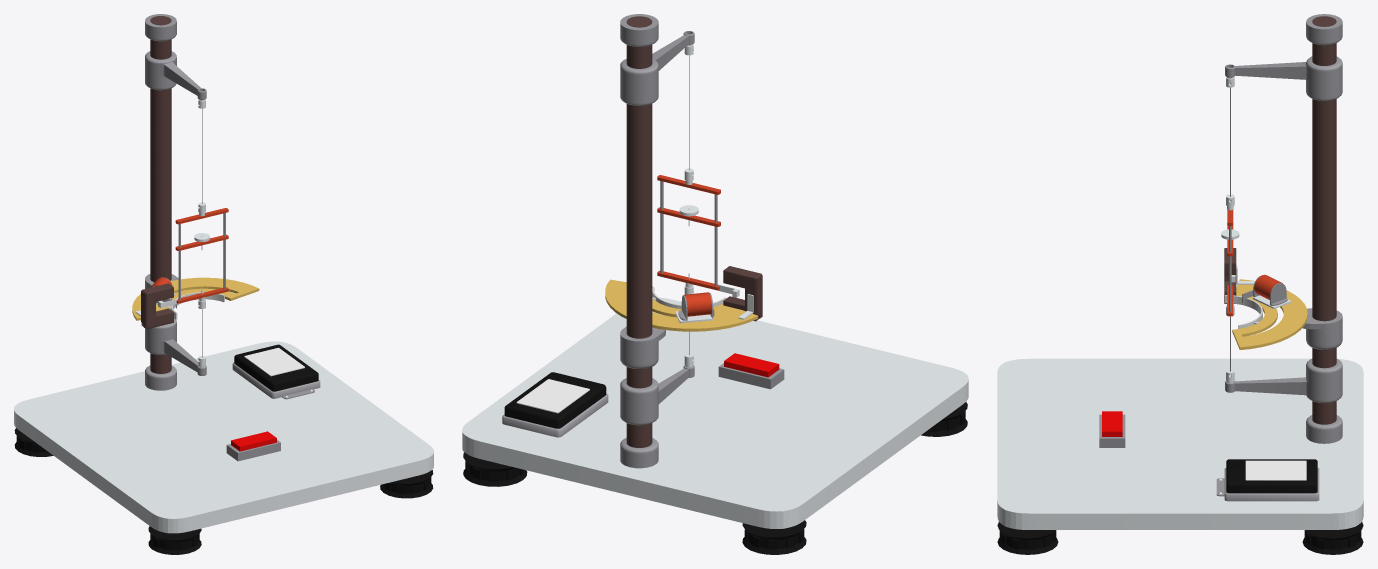
The model's file is ustanovka.fbx.
3 renders of one model, left to right at view 1: azimuth 30°, elevation 25°; view 2: azimuth 150°, elevation 25°; view 3: azimuth 270°, elevation 25°, orthographic. The views are drawn at different scales.
Visible parts, largest first — view 1: ploschadka, palka, sec, podderzh001, oporadlyamgnita, podderzh, Cylinder001, vichisl, ekran, Cylinder006, sec001, Cylinder013 (+4 smaller); view 2: ploschadka, palka, oporadlyamgnita, sec, podderzh001, podderzh, Cylinder008, ekran, Cylinder010, podoporu, vichisl, sec001 (+5 smaller); view 3: ploschadka, palka, podderzh001, podderzh, oporadlyamgnita, sec, Cylinder006, Cylinder010, ekran, podoporu, sec001, Cylinder013 (+4 smaller).
Boxes of the visible parts, x1,y1,x2,y2 form: ploschadka: (14,341,433,533); palka: (150,16,171,373); sec: (234,344,318,391); podderzh001: (145,51,206,99); oporadlyamgnita: (132,277,259,320); podderzh: (145,318,206,375); Cylinder001: (148,526,201,554); vichisl: (141,283,173,329); ekran: (244,347,304,376); Cylinder006: (380,470,433,498); sec001: (232,362,320,398); Cylinder013: (145,14,176,41); ploschadka: (462,297,968,528); palka: (626,16,652,447); oporadlyamgnita: (605,279,757,331); sec: (504,372,606,428); podderzh001: (620,31,694,105); podderzh: (620,365,694,425); Cylinder008: (742,520,806,554); ekran: (516,379,589,413); Cylinder010: (463,452,527,486); podoporu: (620,326,665,368); vichisl: (723,266,761,321); sec001: (502,393,608,437); ploschadka: (997,358,1363,529); palka: (1312,16,1336,424); podderzh001: (1225,56,1342,100); podderzh: (1225,358,1342,403); oporadlyamgnita: (1232,279,1307,349); sec: (1226,459,1317,493); Cylinder006: (997,522,1058,554); Cylinder010: (1302,522,1363,554); ekran: (1245,460,1306,480); podoporu: (1302,308,1342,349); sec001: (1224,468,1319,501); Cylinder013: (1306,14,1342,45).
Size of the model in its own units: 60 by 82.5 by 60.
